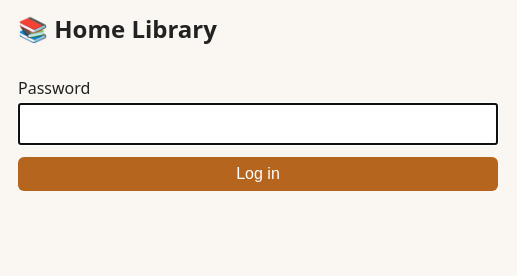
login gate › shows the login form when the session is missing and rejects a wrong password
This screenshot has width=517, height=276.
Type "nope" into the password field labelled "Password" at [258, 124], box [18, 103, 498, 145]
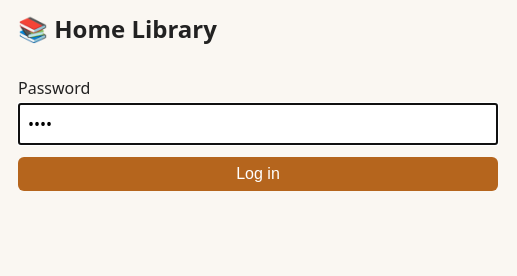
Click the button "Log in" at [258, 174], box [18, 157, 498, 191]
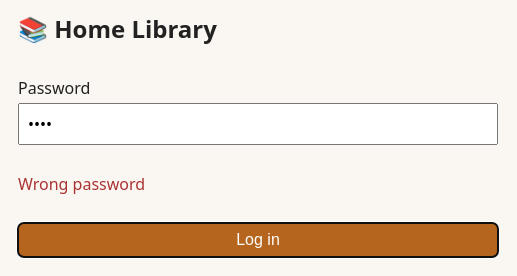
Expected: the message reads "Wrong password", [18, 173, 145, 195]
